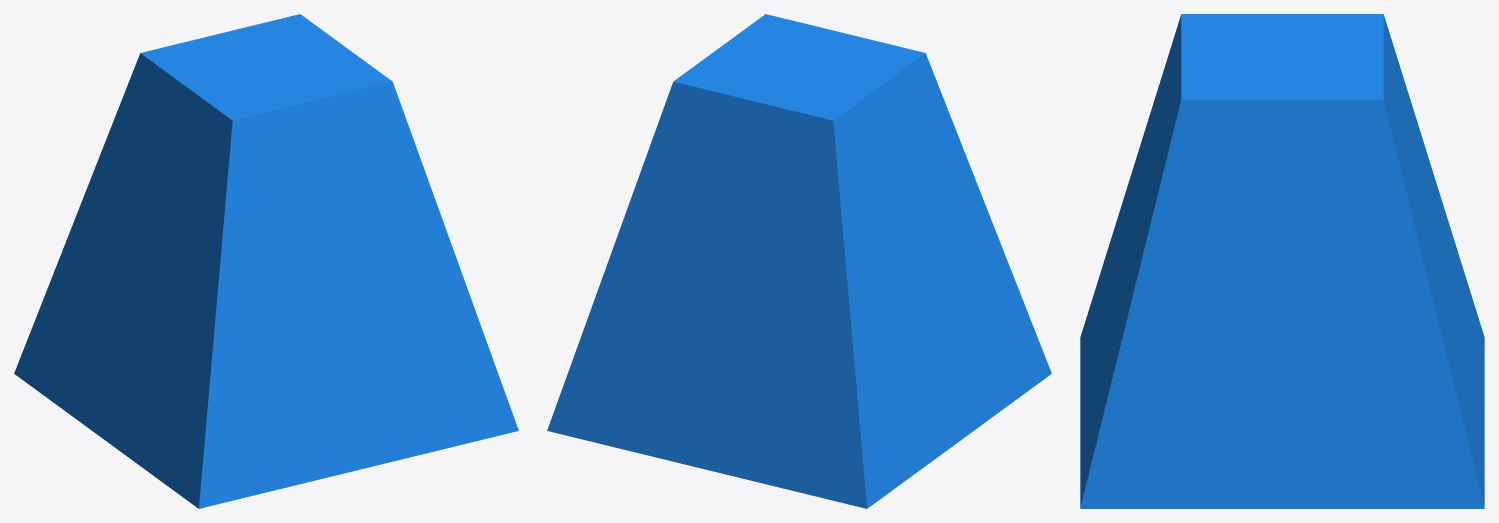
Rendered from Proto_Block_Top_Point_Square_Cropped_01.fbx.
3 views of the same model, side by side, from view 1: azimuth 30°, elevation 25°; view 2: azimuth 150°, elevation 25°; view 3: azimuth 270°, elevation 25° (orthographic). The views are drawn at different scales.
Parts seen in each view (by area): view 1: Proto_Block_Top_Point_Square_Cropped_01; view 2: Proto_Block_Top_Point_Square_Cropped_01; view 3: Proto_Block_Top_Point_Square_Cropped_01.
Part boxes in pixels (<box>): Proto_Block_Top_Point_Square_Cropped_01: <box>14,14,518,508</box>; Proto_Block_Top_Point_Square_Cropped_01: <box>547,14,1051,508</box>; Proto_Block_Top_Point_Square_Cropped_01: <box>1080,14,1484,508</box>.
Size of the model in its own units: 1 by 1 by 1.
